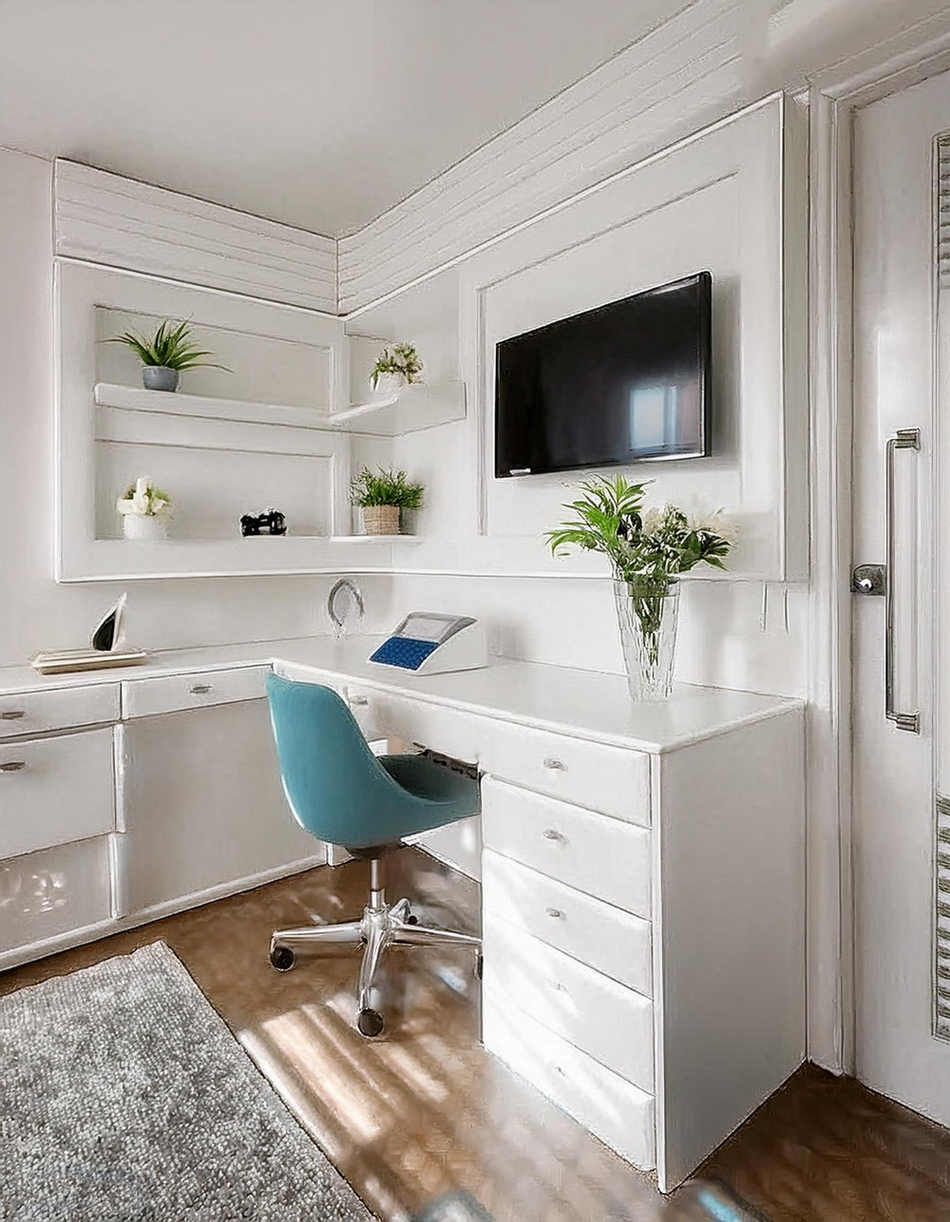not a gesture sign: (0, 943, 374, 1221)
